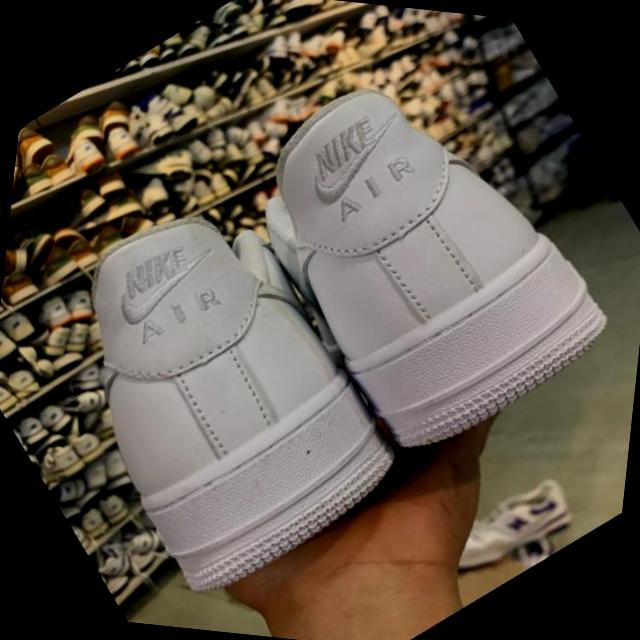nike_fake_airforce: (187, 8, 640, 489), (0, 151, 439, 628)
